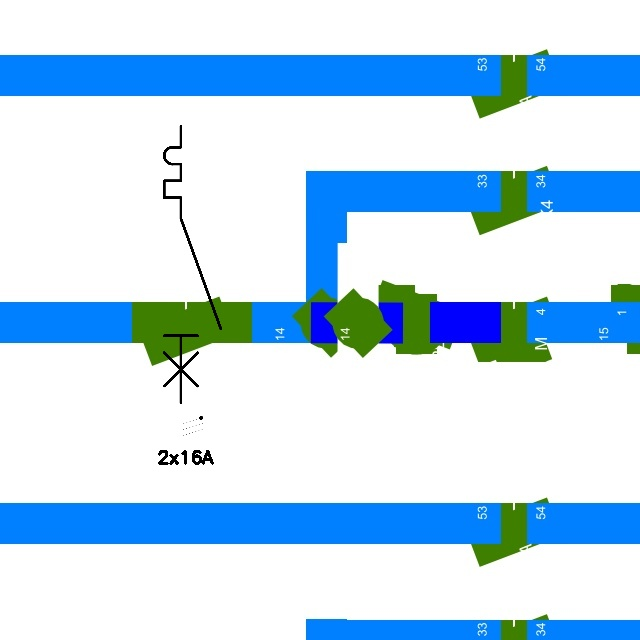interruptor_termomagnetico: (157, 119, 228, 410)
